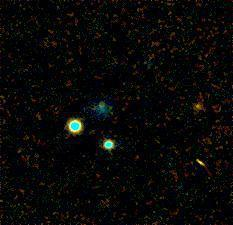star: (183, 91, 213, 121)
